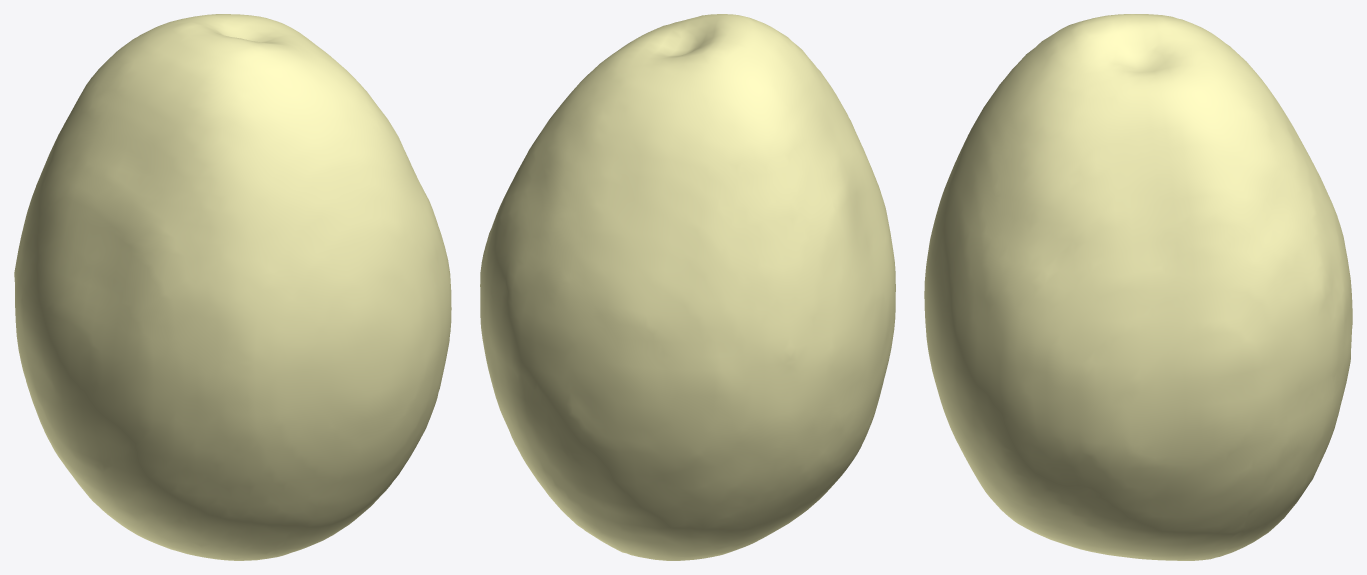
File: new_avacado2.glb
3 renders of one model, left to right at view 1: azimuth 30°, elevation 25°; view 2: azimuth 150°, elevation 25°; view 3: azimuth 270°, elevation 25°, orthographic. The views are drawn at different scales.
Parts seen in each view (by area): view 1: Avocado_Skin; view 2: Avocado_Skin; view 3: Avocado_Skin.
Boxes of the visible parts, x1=… form: Avocado_Skin: x1=14, y1=14, x2=451, y2=560; Avocado_Skin: x1=480, y1=14, x2=895, y2=560; Avocado_Skin: x1=924, y1=14, x2=1352, y2=560.
Bounding box in the file's own units: 0.6622 × 0.9077 × 0.6826.
